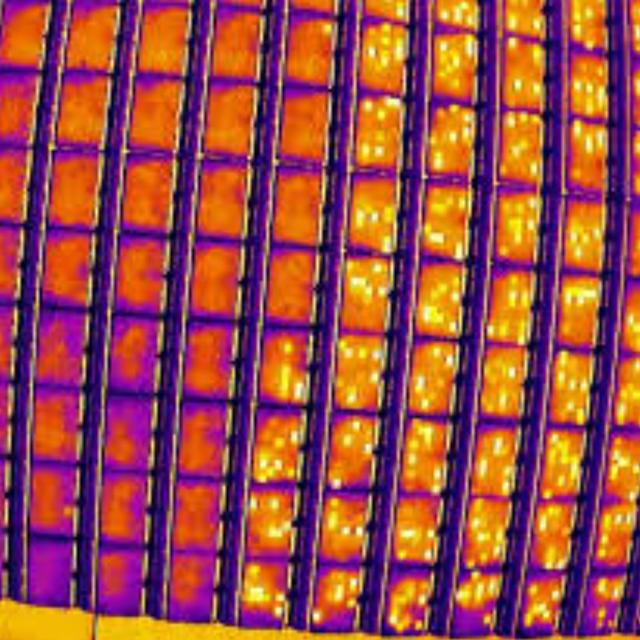hotspot group: (339, 339, 384, 408), (430, 106, 474, 174), (417, 269, 463, 334), (543, 431, 585, 499), (405, 422, 447, 489), (253, 424, 301, 482), (388, 573, 431, 632), (244, 558, 286, 618), (275, 329, 308, 403), (467, 510, 508, 566), (353, 202, 399, 251), (251, 490, 295, 541), (436, 36, 478, 88), (348, 259, 390, 307), (327, 493, 366, 541), (504, 195, 538, 250), (595, 511, 633, 559), (498, 137, 541, 178), (366, 24, 406, 68), (458, 570, 500, 608), (424, 221, 466, 258), (556, 349, 589, 393), (338, 420, 376, 458), (566, 224, 605, 260), (610, 378, 640, 424), (436, 0, 484, 28), (608, 439, 640, 481), (570, 121, 607, 157), (485, 312, 530, 341), (574, 77, 608, 113), (570, 3, 596, 49), (331, 573, 361, 611), (484, 356, 522, 386), (502, 273, 531, 308), (470, 496, 491, 544), (560, 285, 601, 309), (508, 71, 546, 96), (486, 384, 519, 412), (504, 38, 542, 62), (397, 519, 435, 543), (361, 131, 389, 163), (590, 577, 625, 601), (362, 98, 398, 120), (535, 505, 562, 534), (416, 375, 436, 413), (433, 195, 469, 216), (540, 545, 566, 573), (523, 602, 553, 626), (623, 312, 640, 352), (507, 112, 542, 129), (498, 464, 518, 493), (568, 398, 589, 425), (434, 346, 457, 369), (492, 434, 512, 460), (595, 606, 617, 629), (550, 574, 567, 603), (476, 458, 492, 480), (632, 8, 640, 51), (391, 2, 407, 20), (313, 605, 326, 626), (627, 358, 640, 379), (421, 548, 438, 564), (481, 610, 495, 627), (508, 14, 522, 29), (527, 582, 540, 598), (320, 20, 332, 34), (531, 17, 543, 31), (399, 546, 409, 558), (635, 76, 640, 96)
panel with hotspots: (417, 177, 477, 261), (411, 258, 473, 338), (250, 402, 310, 484), (403, 337, 463, 419), (344, 167, 401, 253), (259, 323, 318, 406), (332, 332, 392, 413), (306, 562, 370, 637), (317, 489, 377, 566), (339, 252, 397, 331), (245, 482, 304, 559), (523, 496, 581, 574), (378, 563, 438, 638), (326, 409, 382, 489), (466, 422, 526, 496), (398, 416, 456, 492), (557, 194, 610, 277), (486, 264, 540, 345), (446, 568, 506, 640), (424, 101, 479, 179), (458, 494, 515, 569), (238, 558, 294, 634), (554, 272, 607, 352), (390, 492, 448, 565), (357, 17, 409, 98), (535, 426, 591, 499), (353, 96, 406, 173), (493, 185, 541, 268), (482, 341, 532, 420), (566, 117, 614, 199), (546, 349, 596, 426), (428, 30, 480, 104), (516, 572, 573, 639), (285, 14, 338, 86), (576, 570, 630, 639), (498, 110, 545, 187), (565, 46, 612, 122), (589, 500, 640, 570), (502, 36, 547, 110), (598, 428, 640, 503)
